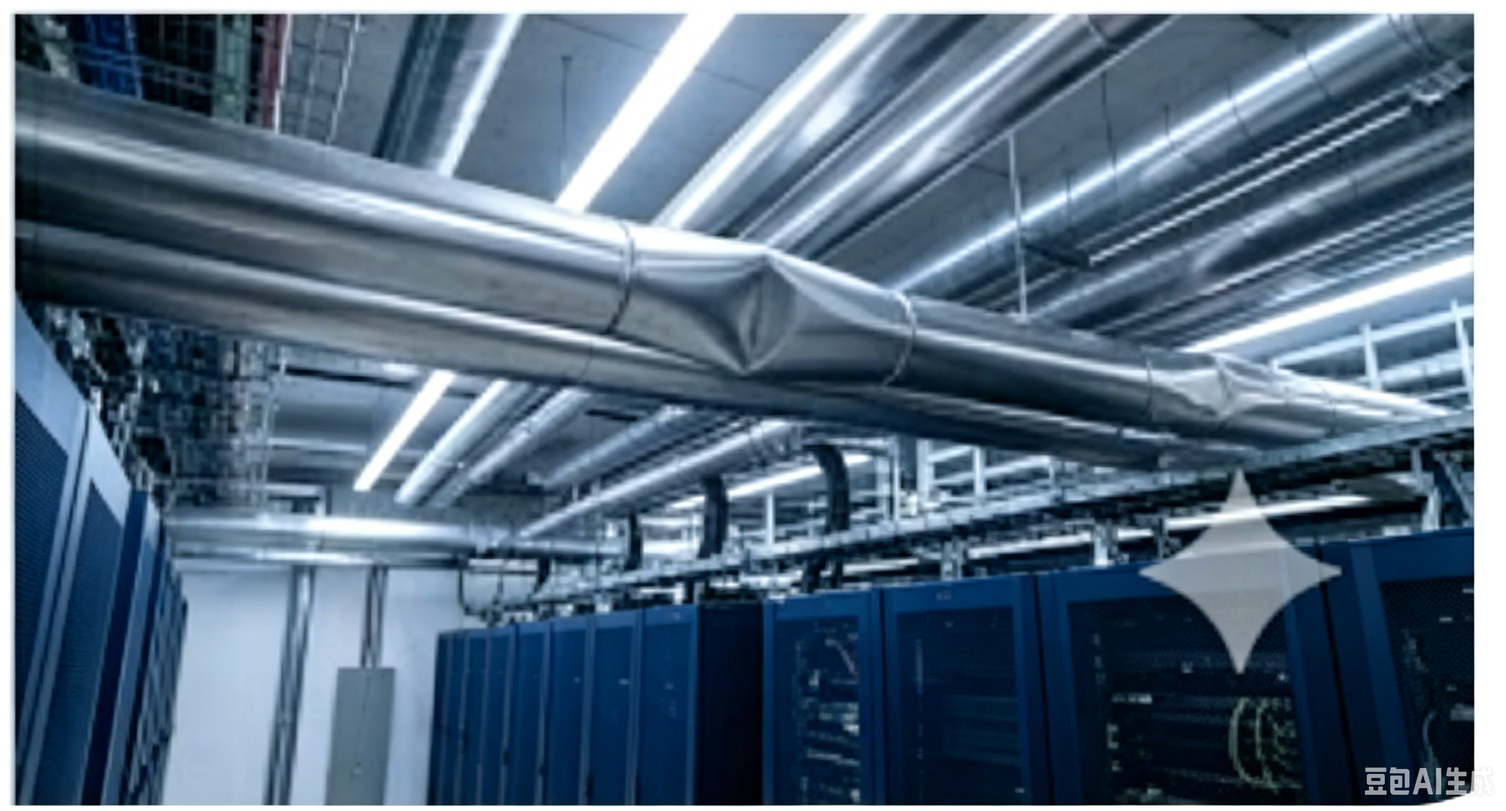Leakage: (674, 230, 827, 378)
